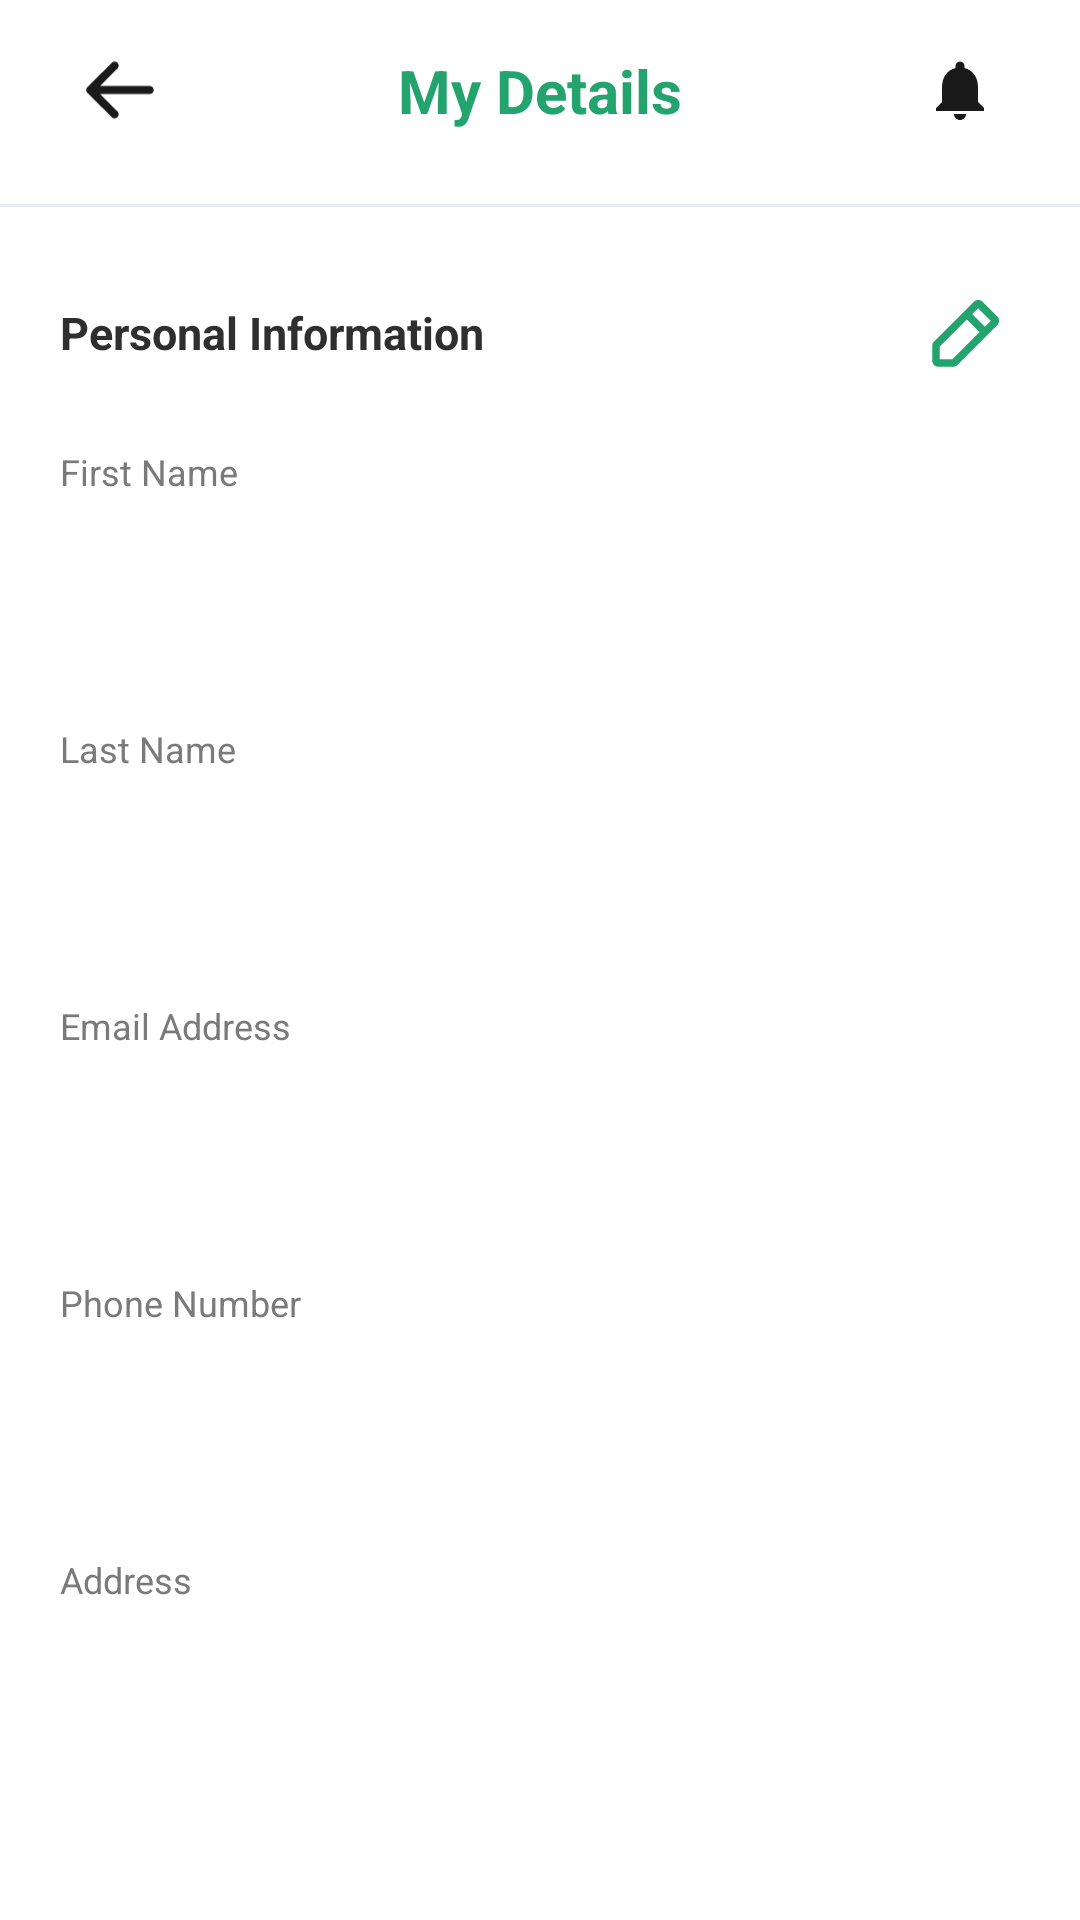

Point at icon controls on the screen. Image size 1080x1920, points as (x,y).
Back: (120,90)
Edit: (965,333)
Open notifications: (960,90)
